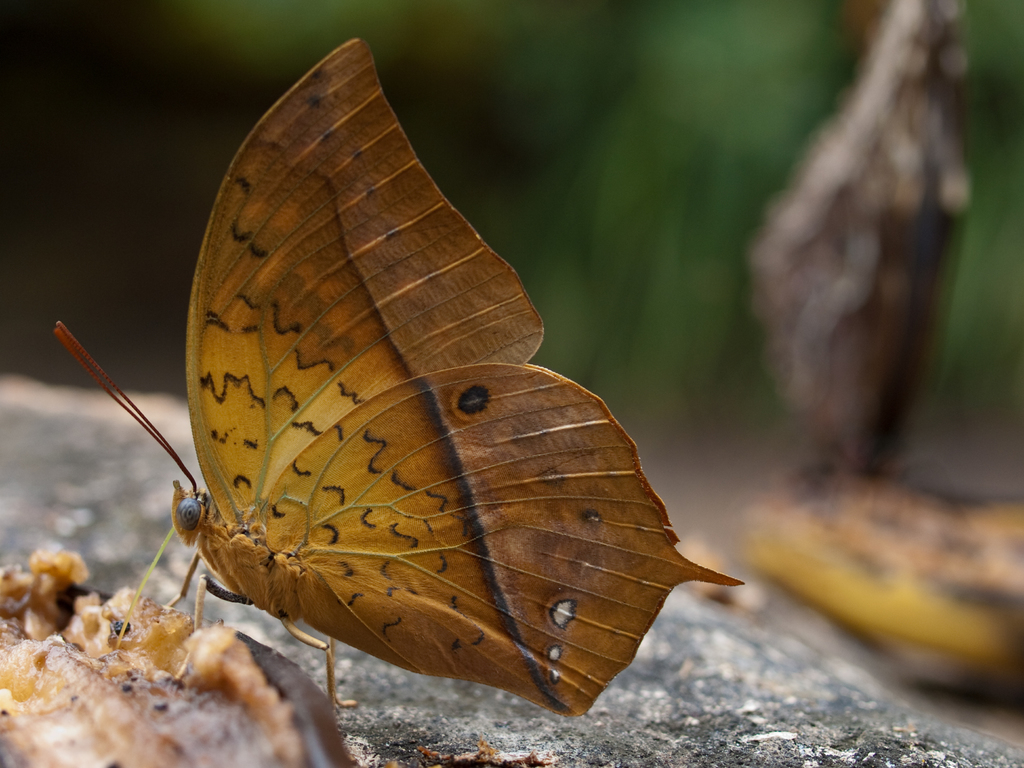Butterfly: (138, 31, 761, 726)
